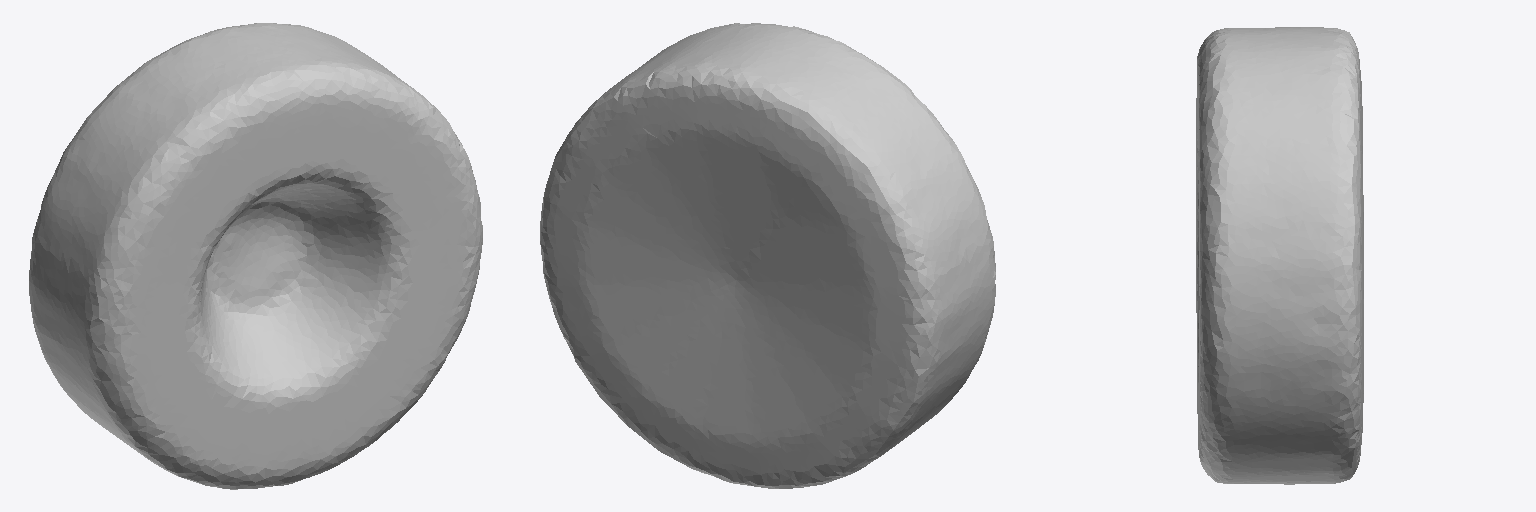
Rendered from Amulet_July_Lobe_25.obj.
3 renders of one model, left to right at view 1: azimuth 30°, elevation 25°; view 2: azimuth 150°, elevation 25°; view 3: azimuth 270°, elevation 25°, orthographic.
Size of the model in its own units: 25.06 by 24.99 by 9.17.